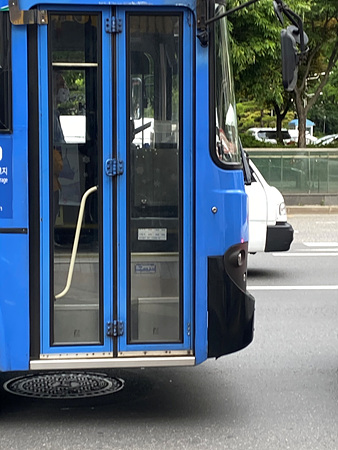entrance: (40, 6, 196, 356)
